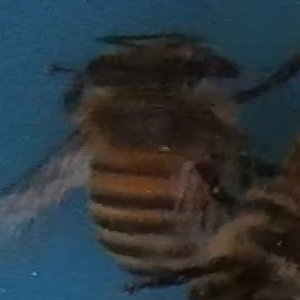bee: (13, 31, 263, 283), (210, 145, 298, 300)
